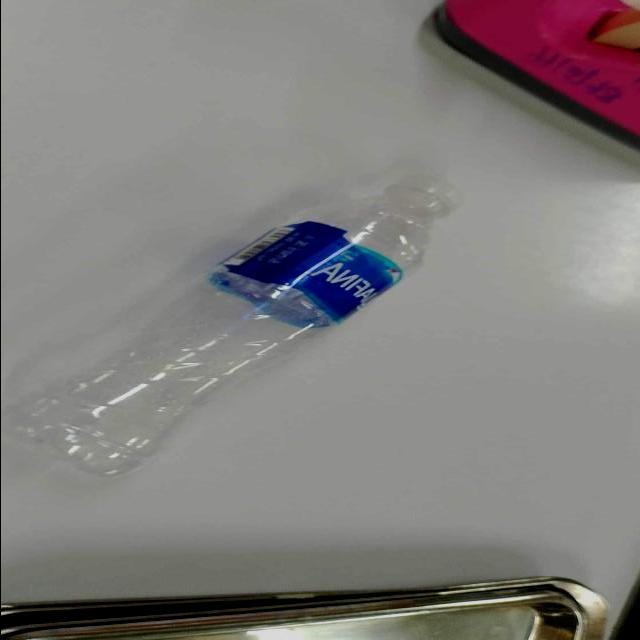General: (206, 171, 460, 334)
Sharps: (4, 171, 461, 479), (2, 576, 611, 640), (431, 1, 640, 161)
